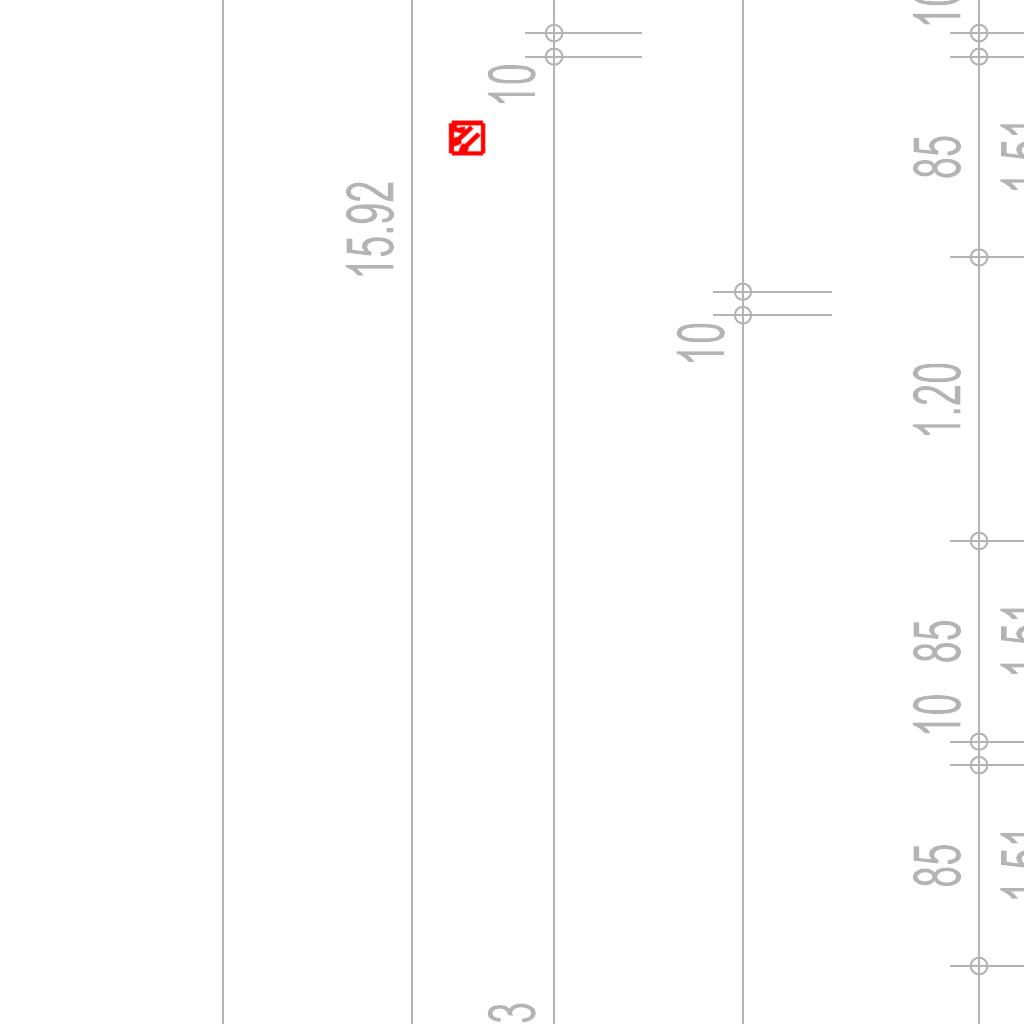OT_Multisensormelder_(Kombination_RMO_WMD): (438, 110, 494, 166)
